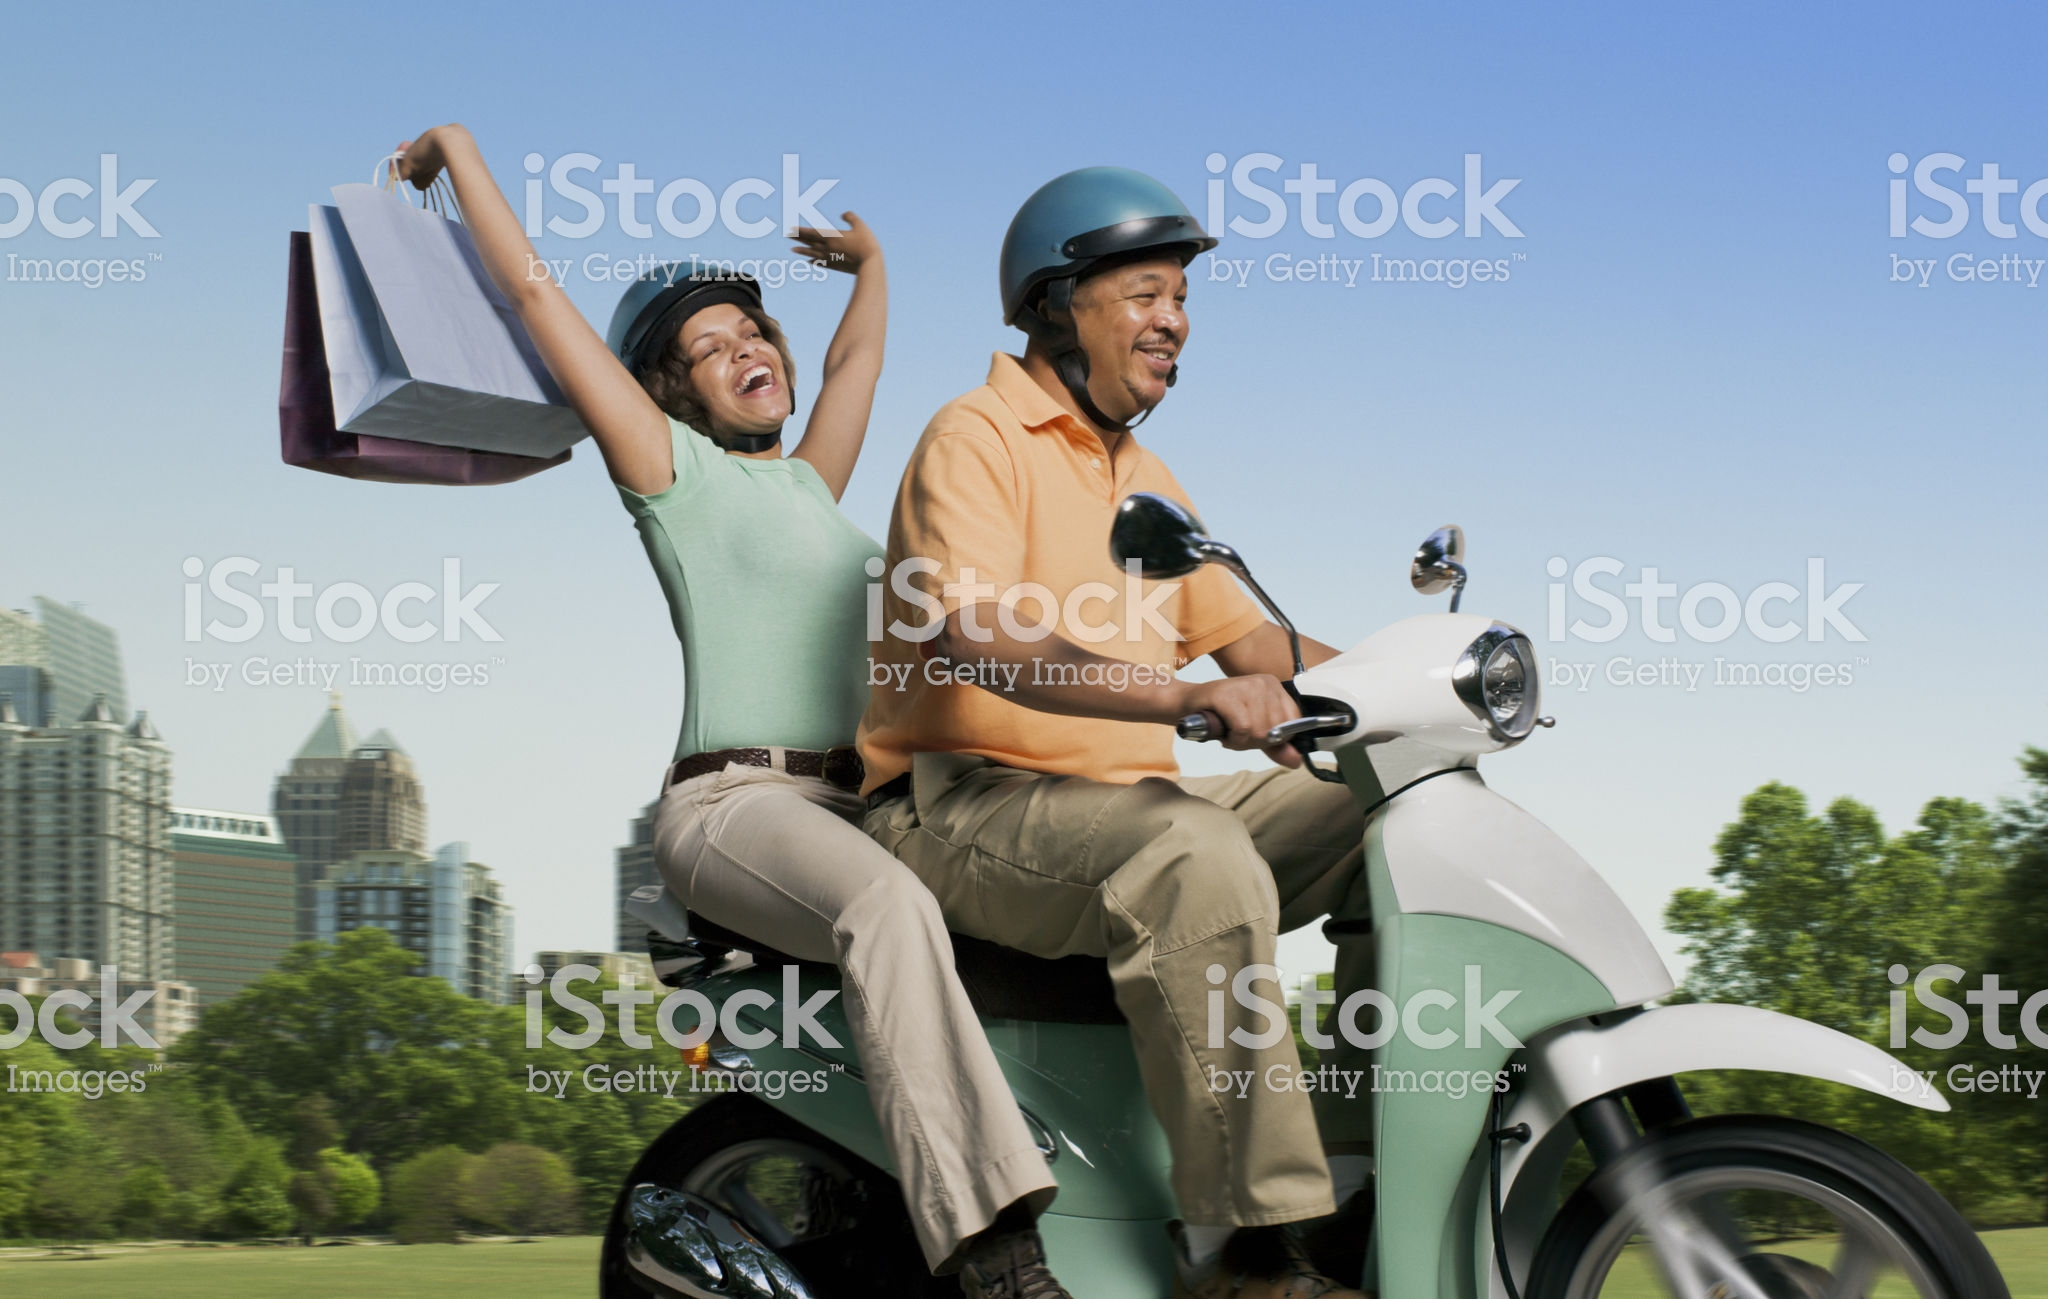helmet: (975, 158, 1229, 302)
